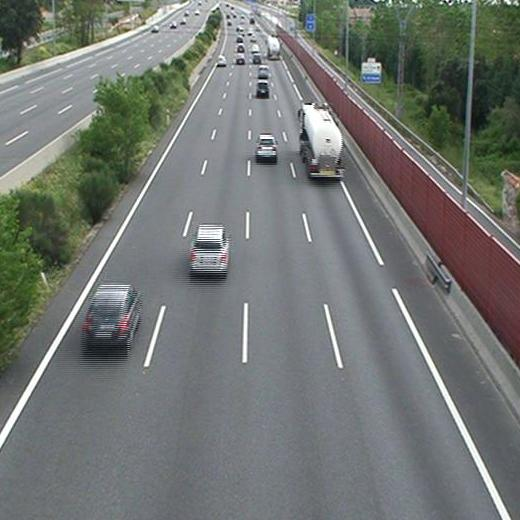car: (84, 286, 138, 339), (190, 225, 228, 271), (256, 135, 278, 157), (256, 81, 269, 95), (252, 53, 263, 63), (235, 53, 245, 63), (258, 67, 268, 77), (216, 56, 227, 65), (236, 45, 245, 53)
tank-truck: (300, 104, 341, 177), (266, 35, 280, 58)
